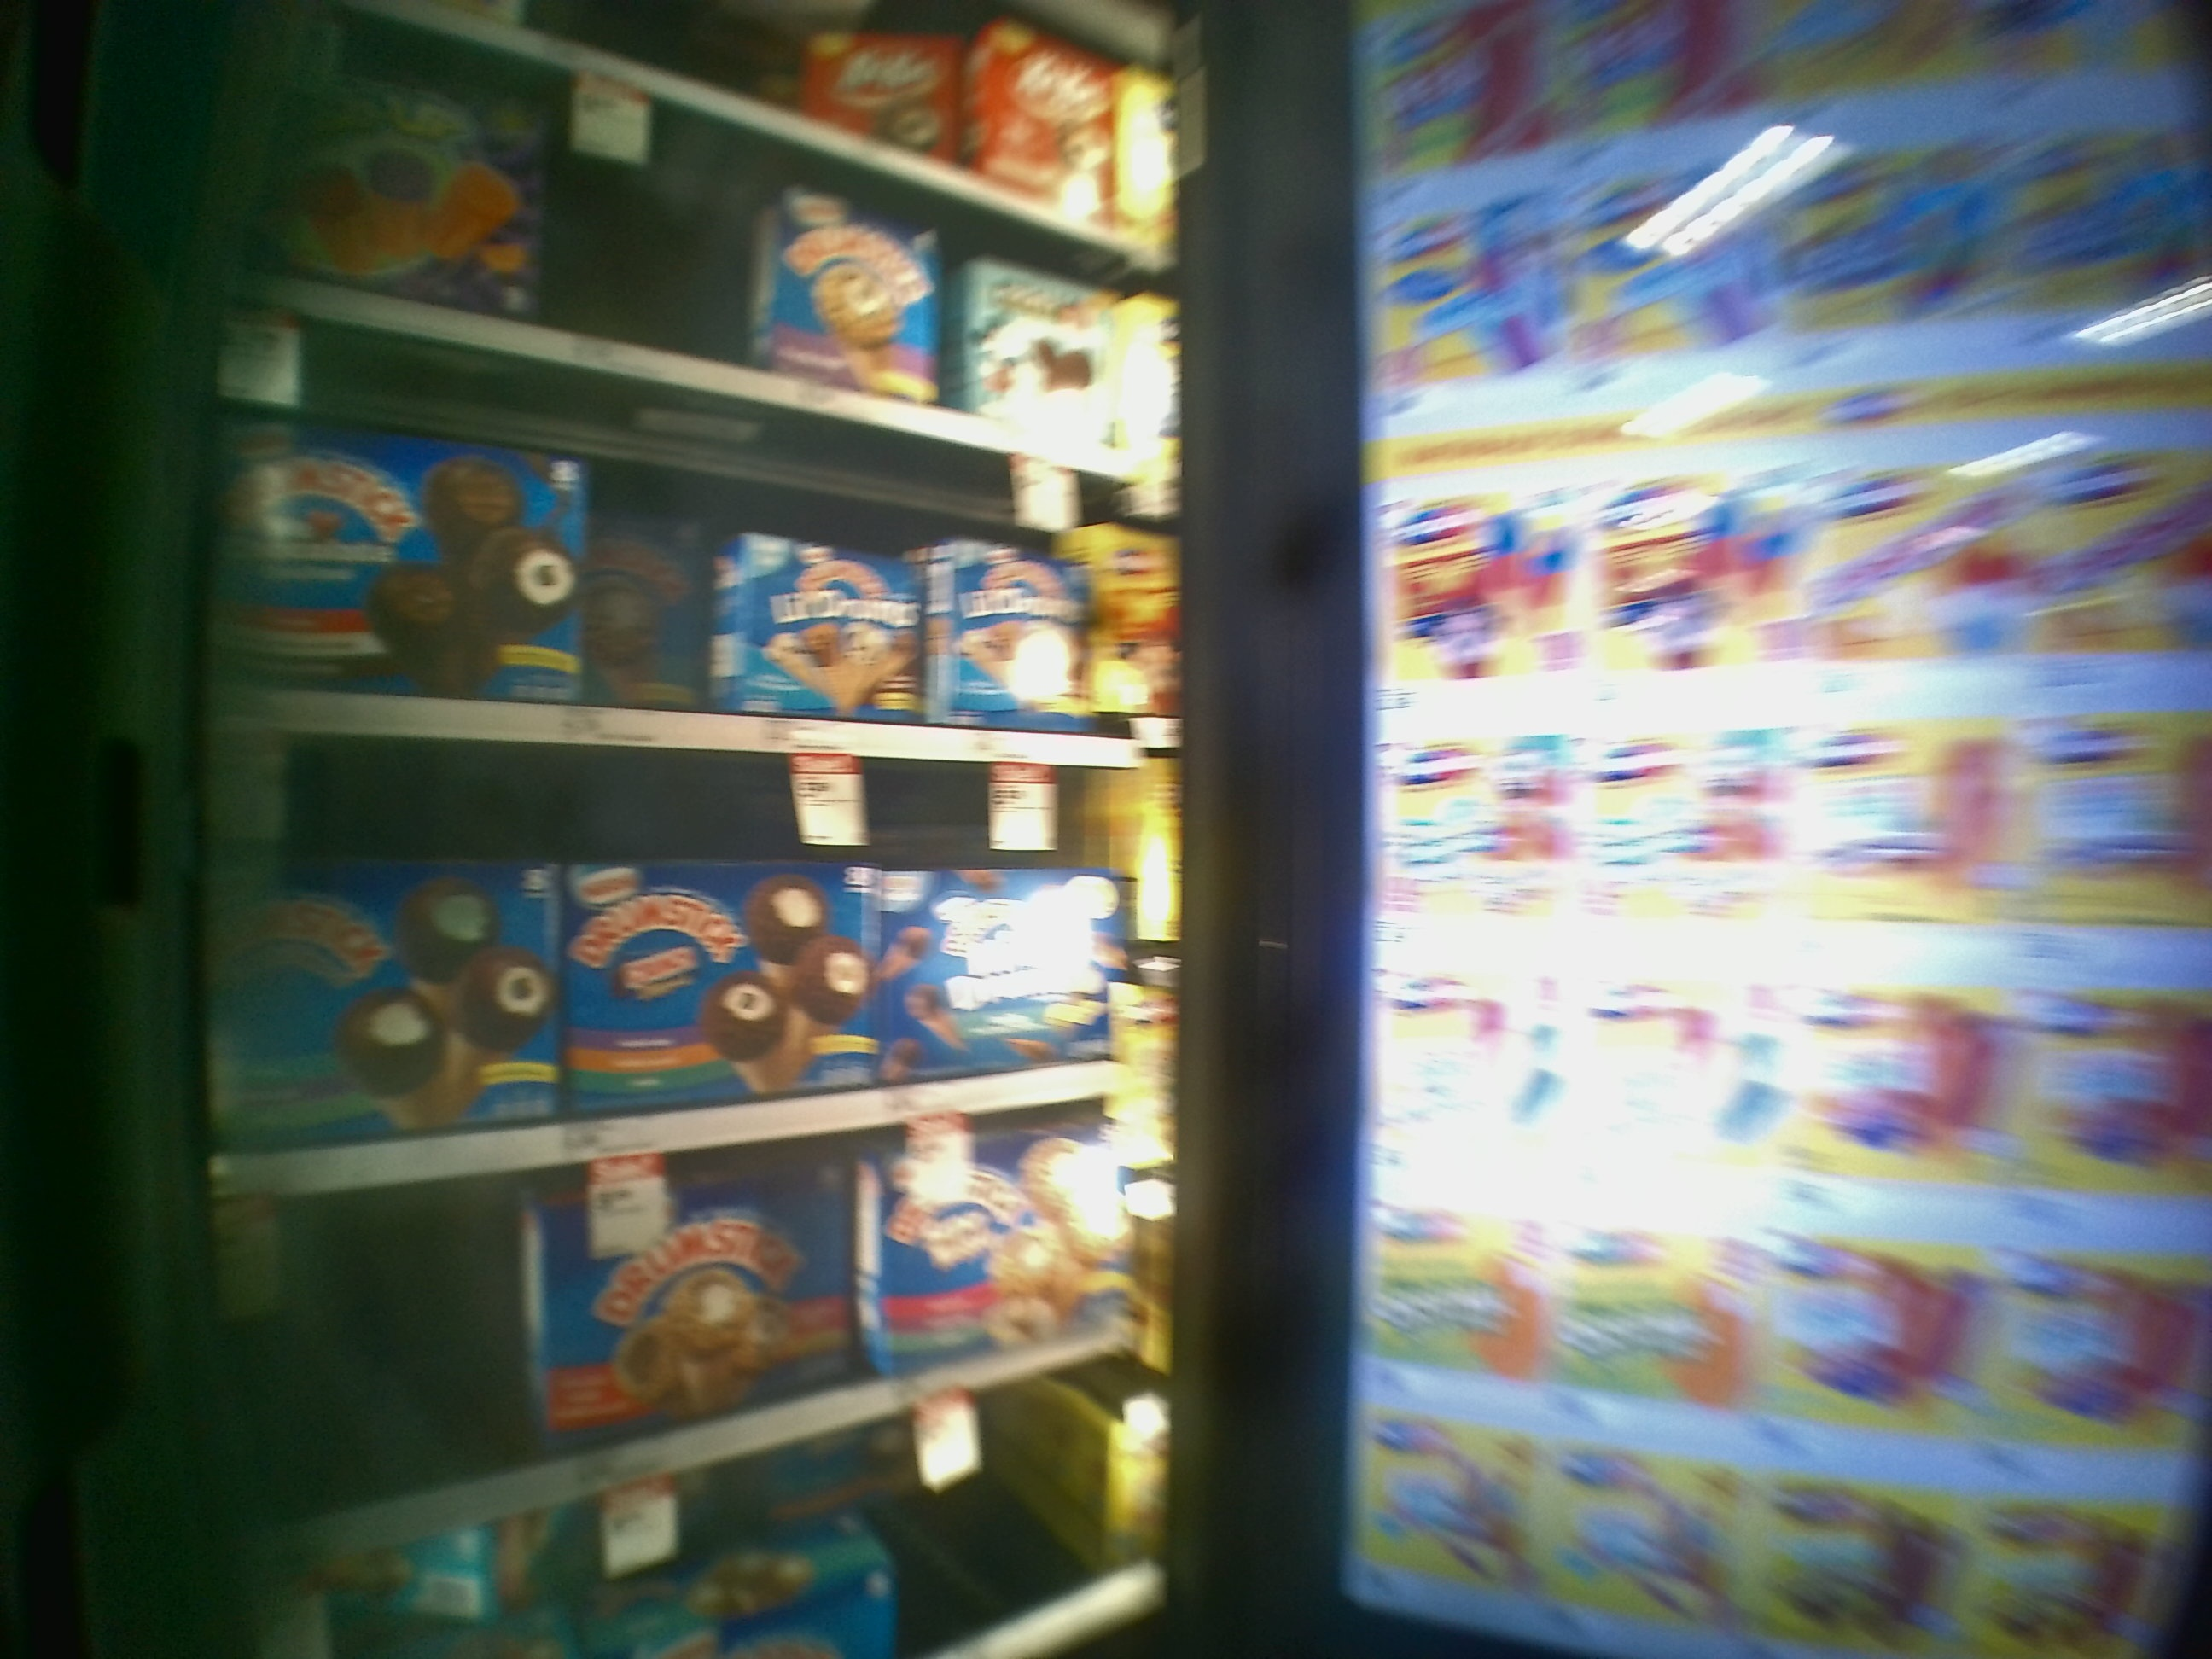shelf: (216, 315, 1183, 767), (228, 1079, 1160, 1542), (228, 739, 1174, 1190)
